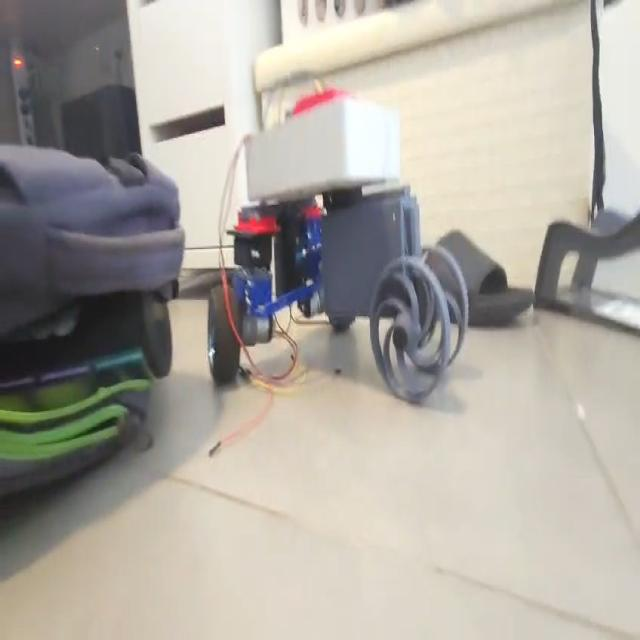Robot: (208, 84, 470, 405)
